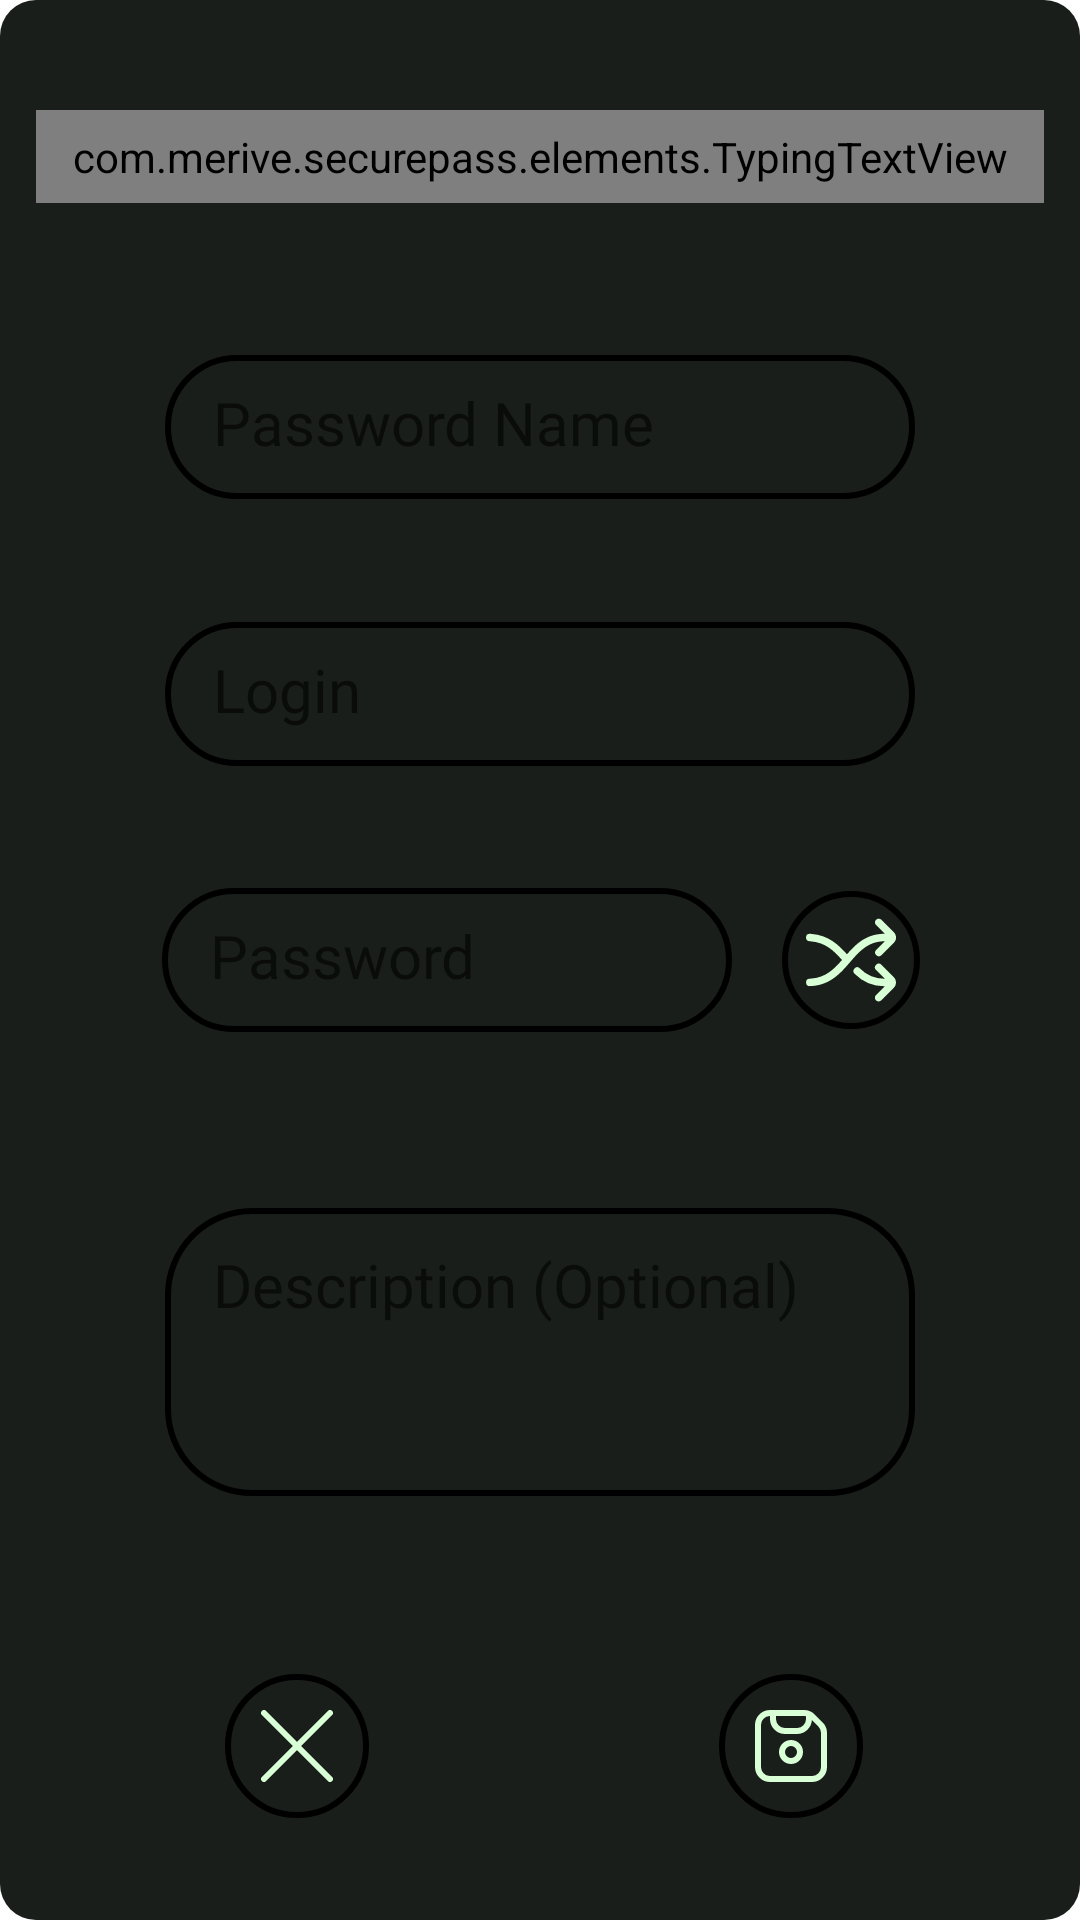

Where to tap for icons on this 1080 x 1920 app screen, as (x=x, y=y):
cancel: (x=297, y=1746)
generate: (x=851, y=960)
save: (x=791, y=1746)
